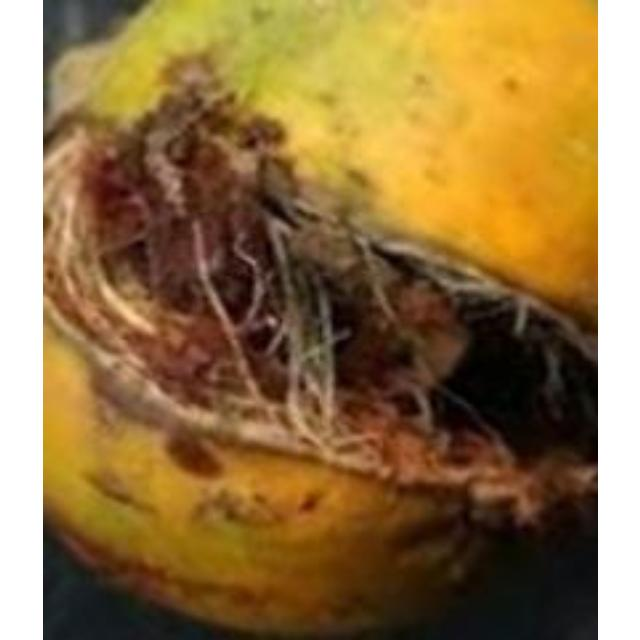damaged: (42, 0, 592, 629)
